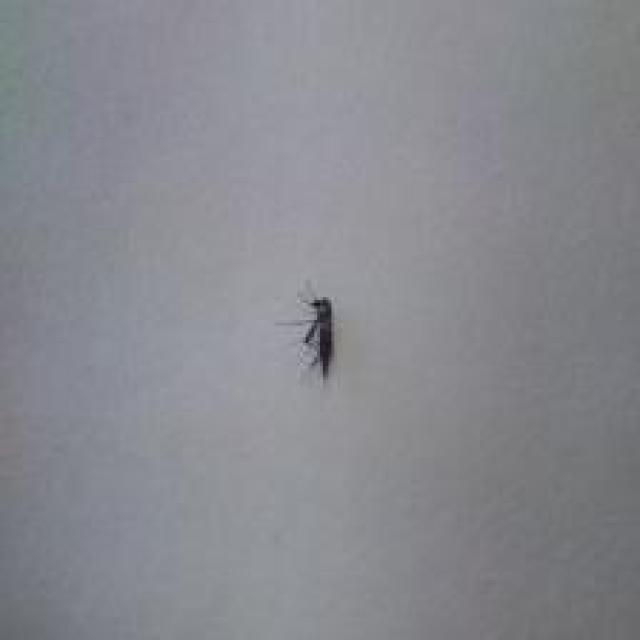Aedes albopictus: (276, 278, 338, 382)
